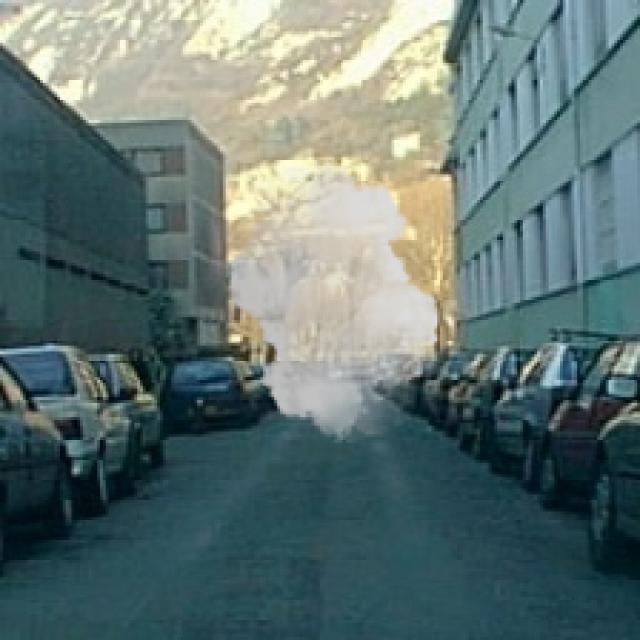Smoke: (221, 160, 448, 443)
